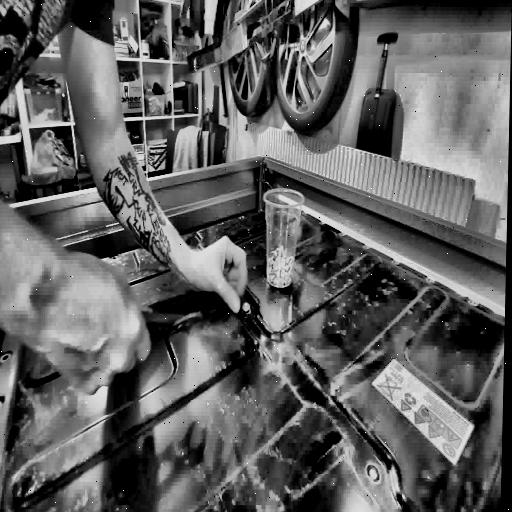nut: (263, 249, 296, 289), (241, 304, 251, 316)
